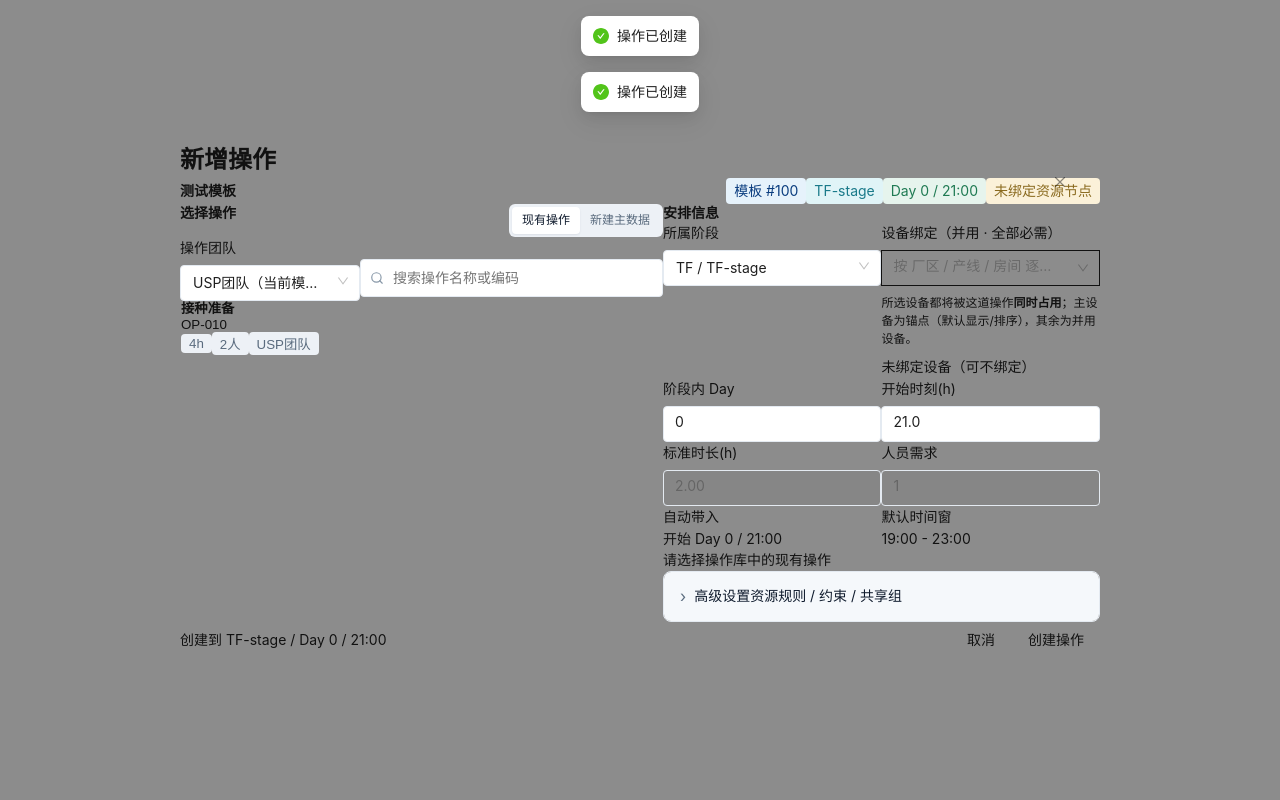
Scenario: QuickCreateOperationModal › shows qualification editing in the new master data tab
Click the button "新建主数据". click: {"x": 620, "y": 221}
box: 580,207 -> 660,234
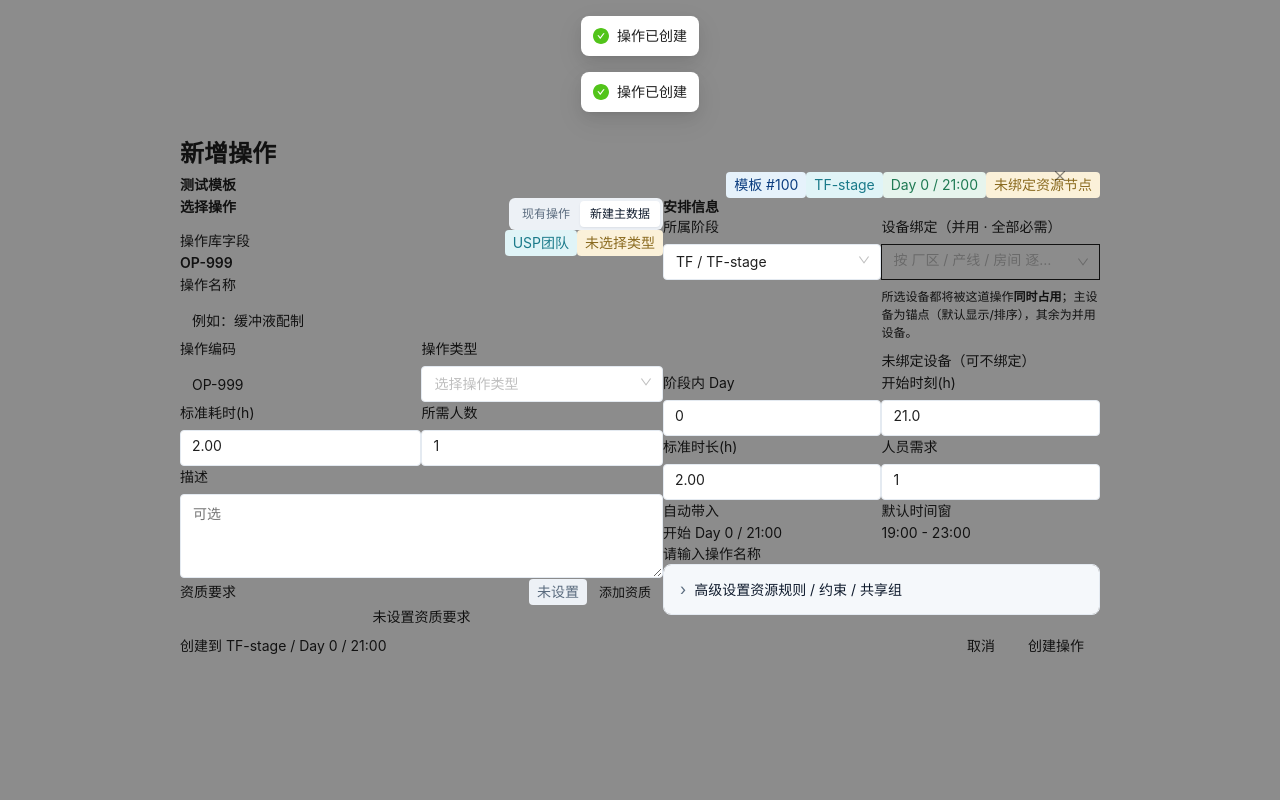
Check: the text "资质要求" is shown, box 180,581 -> 236,603
Check: the text "添加资质" is shown, box 587,578 -> 663,606
